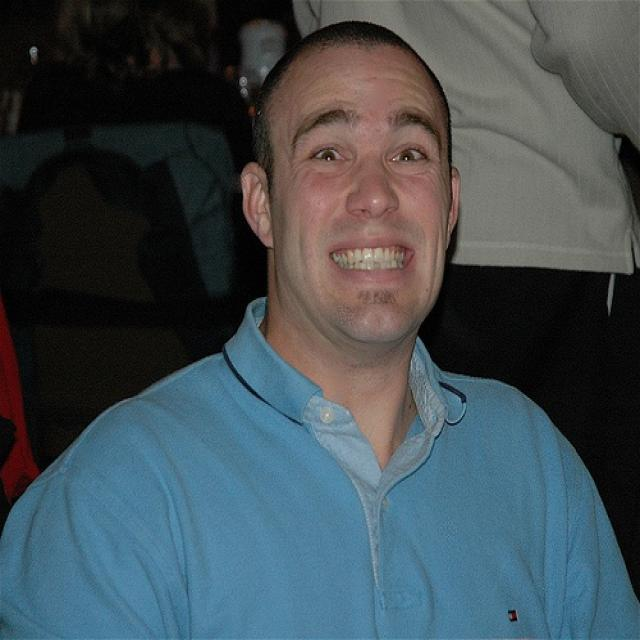person: (1, 19, 640, 639)
